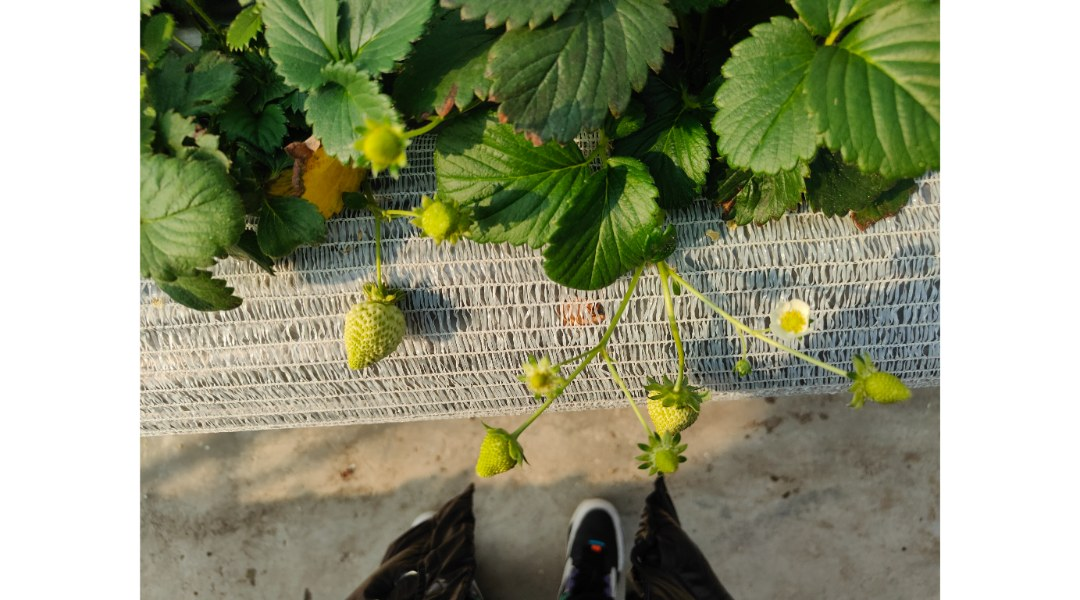berry: (334, 293, 423, 374), (833, 353, 910, 414), (470, 407, 534, 479), (343, 123, 426, 178), (642, 364, 706, 435), (637, 433, 693, 480), (408, 193, 460, 242), (515, 353, 564, 404), (729, 359, 759, 378)
flower: (768, 281, 826, 354)
strain: (674, 275, 766, 348), (506, 373, 584, 446), (601, 363, 655, 449), (604, 261, 643, 350), (657, 277, 696, 365), (365, 220, 393, 284)
